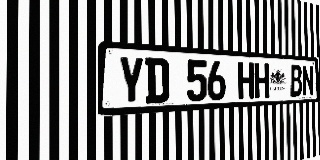5: (187, 59, 207, 102)
6: (207, 60, 226, 101)
B: (290, 64, 302, 97)
D: (145, 57, 169, 104)
H: (238, 62, 254, 99), (254, 63, 269, 99)
N: (302, 65, 314, 96)
Y: (118, 56, 145, 105)
